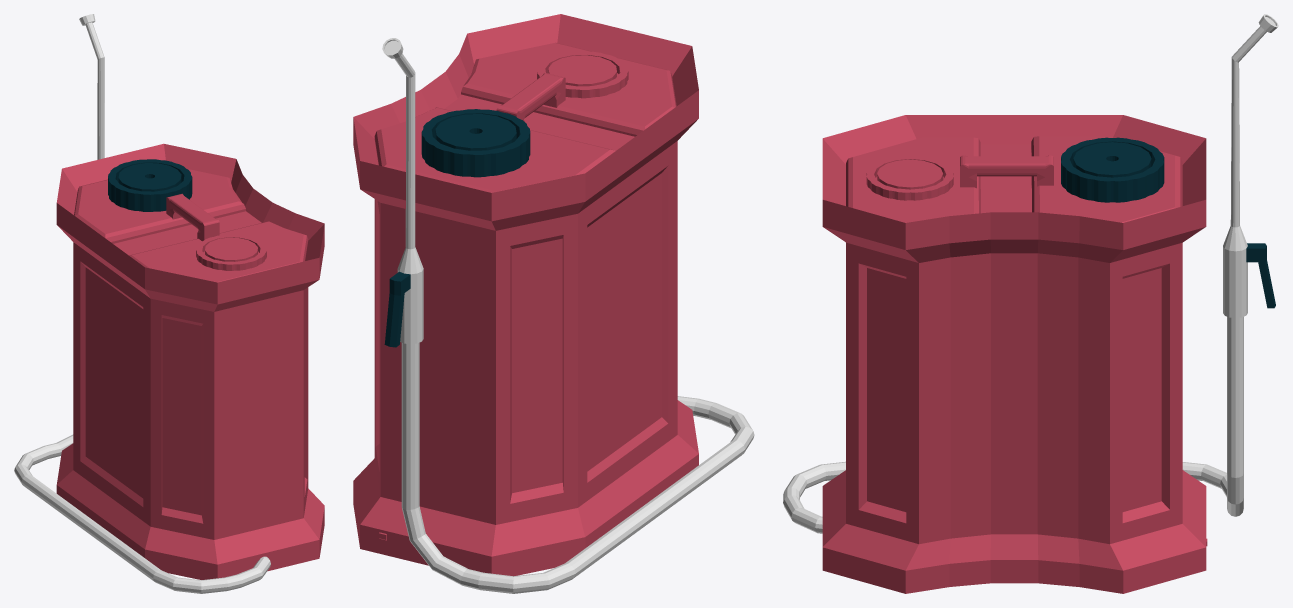
The model's file is sprayer.fbx.
The picture shows the model from 3 angles, left to right: view 1: azimuth 30°, elevation 25°; view 2: azimuth 150°, elevation 25°; view 3: azimuth 270°, elevation 25°; orthographic projection. The views are drawn at different scales.
Visible parts, largest first — view 1: Cylinder.001; view 2: Cylinder.001; view 3: Cylinder.001.
Boxes of the visible parts, x1,y1,x2,y2 form: Cylinder.001: (14, 14, 324, 593); Cylinder.001: (353, 14, 754, 593); Cylinder.001: (783, 14, 1278, 593).
Size of the model in its own units: 61.39 by 129 by 110.
